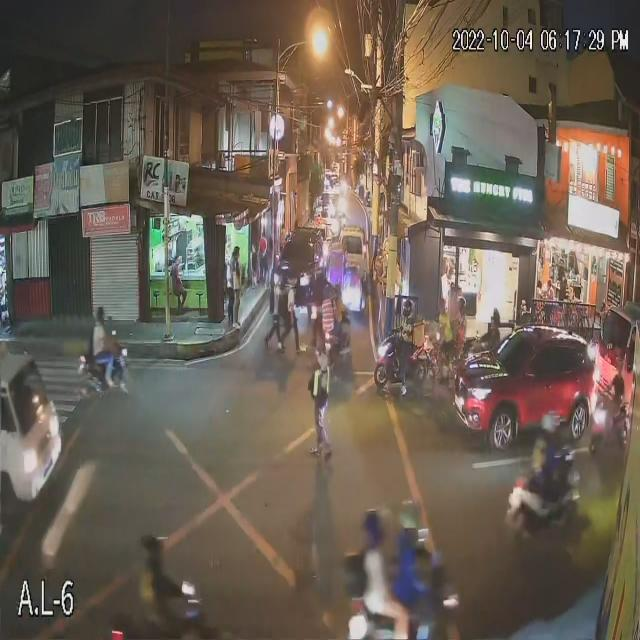helmet: (395, 505, 424, 529), (140, 540, 171, 559), (362, 513, 387, 532), (546, 418, 566, 429), (95, 306, 105, 319), (403, 301, 414, 312), (456, 301, 467, 308)
motorcycle: (502, 477, 586, 535), (340, 601, 459, 640), (376, 339, 435, 390), (76, 353, 135, 391), (102, 623, 217, 640)
rider: (355, 545, 389, 629), (400, 539, 426, 607), (144, 572, 170, 620), (539, 438, 551, 498), (92, 329, 107, 366), (403, 322, 413, 366)
